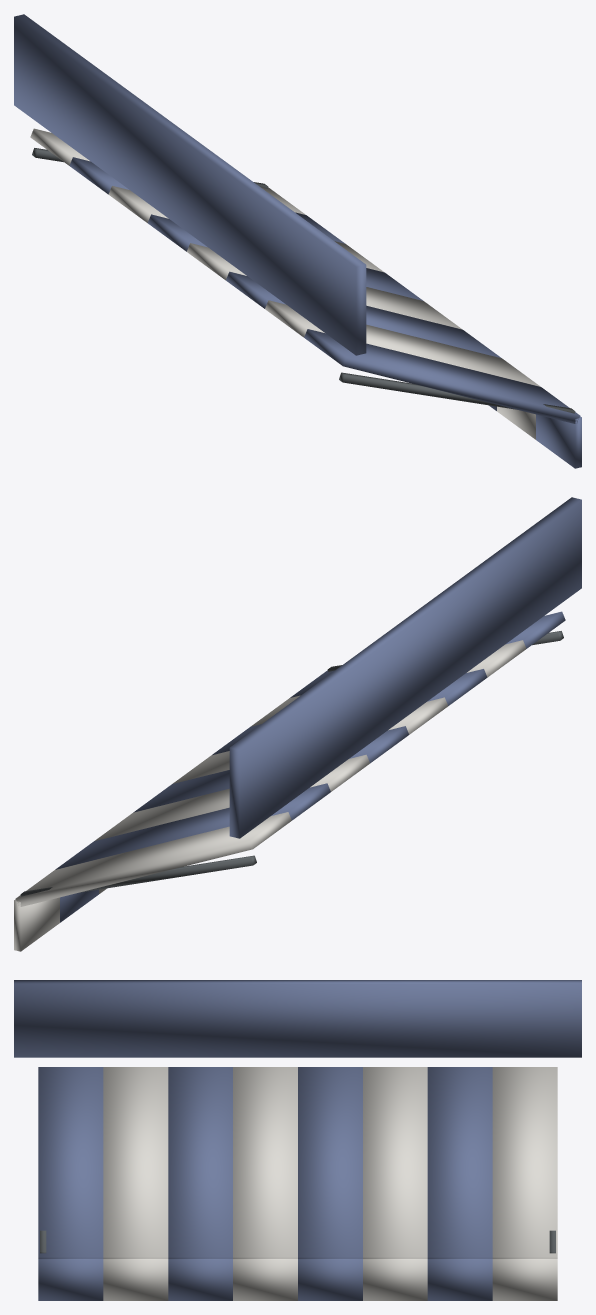
Rendered from awning_navy.glb.
3 renders of one model, top to bottom at view 1: azimuth 30°, elevation 25°; view 2: azimuth 150°, elevation 25°; view 3: azimuth 270°, elevation 25°, orthographic. The views are drawn at different scales.
Visible parts, largest first — view 1: awning_navy_18, awning_navy_0, awning_navy_2, awning_navy_4, awning_navy_6, awning_navy_1, awning_navy_8, awning_navy_16, awning_navy_10, awning_navy_12, awning_navy_14, awning_navy_3; view 2: awning_navy_18, awning_navy_14, awning_navy_12, awning_navy_10, awning_navy_8, awning_navy_15, awning_navy_6, awning_navy_17, awning_navy_4, awning_navy_2, awning_navy_0, awning_navy_13; view 3: awning_navy_18, awning_navy_2, awning_navy_12, awning_navy_0, awning_navy_14, awning_navy_4, awning_navy_6, awning_navy_8, awning_navy_10, awning_navy_1, awning_navy_3, awning_navy_13 (+5 smaller).
Boxes of the visible parts, x1=… form: awning_navy_18: x1=14, y1=14, x2=366, y2=355; awning_navy_0: x1=304, y1=329, x2=580, y2=423; awning_navy_2: x1=265, y1=300, x2=540, y2=386; awning_navy_4: x1=226, y1=271, x2=501, y2=358; awning_navy_6: x1=187, y1=243, x2=462, y2=329; awning_navy_1: x1=536, y1=414, x2=581, y2=468; awning_navy_8: x1=148, y1=214, x2=423, y2=300; awning_navy_16: x1=339, y1=372, x2=575, y2=413; awning_navy_10: x1=108, y1=186, x2=383, y2=272; awning_navy_12: x1=69, y1=157, x2=345, y2=243; awning_navy_14: x1=30, y1=128, x2=305, y2=214; awning_navy_3: x1=497, y1=406, x2=535, y2=439; awning_navy_18: x1=229, y1=497, x2=581, y2=838; awning_navy_14: x1=15, y1=812, x2=291, y2=906; awning_navy_12: x1=55, y1=783, x2=330, y2=869; awning_navy_10: x1=94, y1=754, x2=369, y2=841; awning_navy_8: x1=133, y1=726, x2=408, y2=812; awning_navy_15: x1=14, y1=897, x2=59, y2=951; awning_navy_6: x1=172, y1=697, x2=447, y2=783; awning_navy_17: x1=20, y1=855, x2=256, y2=896; awning_navy_4: x1=212, y1=669, x2=487, y2=755; awning_navy_2: x1=250, y1=640, x2=526, y2=726; awning_navy_0: x1=290, y1=611, x2=565, y2=697; awning_navy_13: x1=60, y1=889, x2=98, y2=922; awning_navy_18: x1=14, y1=980, x2=581, y2=1057; awning_navy_2: x1=103, y1=1067, x2=168, y2=1258; awning_navy_12: x1=427, y1=1067, x2=492, y2=1258; awning_navy_0: x1=38, y1=1067, x2=103, y2=1258; awning_navy_14: x1=492, y1=1067, x2=557, y2=1258; awning_navy_4: x1=168, y1=1067, x2=232, y2=1258; awning_navy_6: x1=233, y1=1067, x2=297, y2=1258; awning_navy_8: x1=298, y1=1067, x2=362, y2=1258; awning_navy_10: x1=363, y1=1067, x2=427, y2=1258; awning_navy_1: x1=38, y1=1258, x2=103, y2=1300; awning_navy_3: x1=103, y1=1258, x2=168, y2=1300; awning_navy_13: x1=427, y1=1258, x2=492, y2=1300.
Size of the model in its own units: 1.42 by 1.52 by 3.5.
